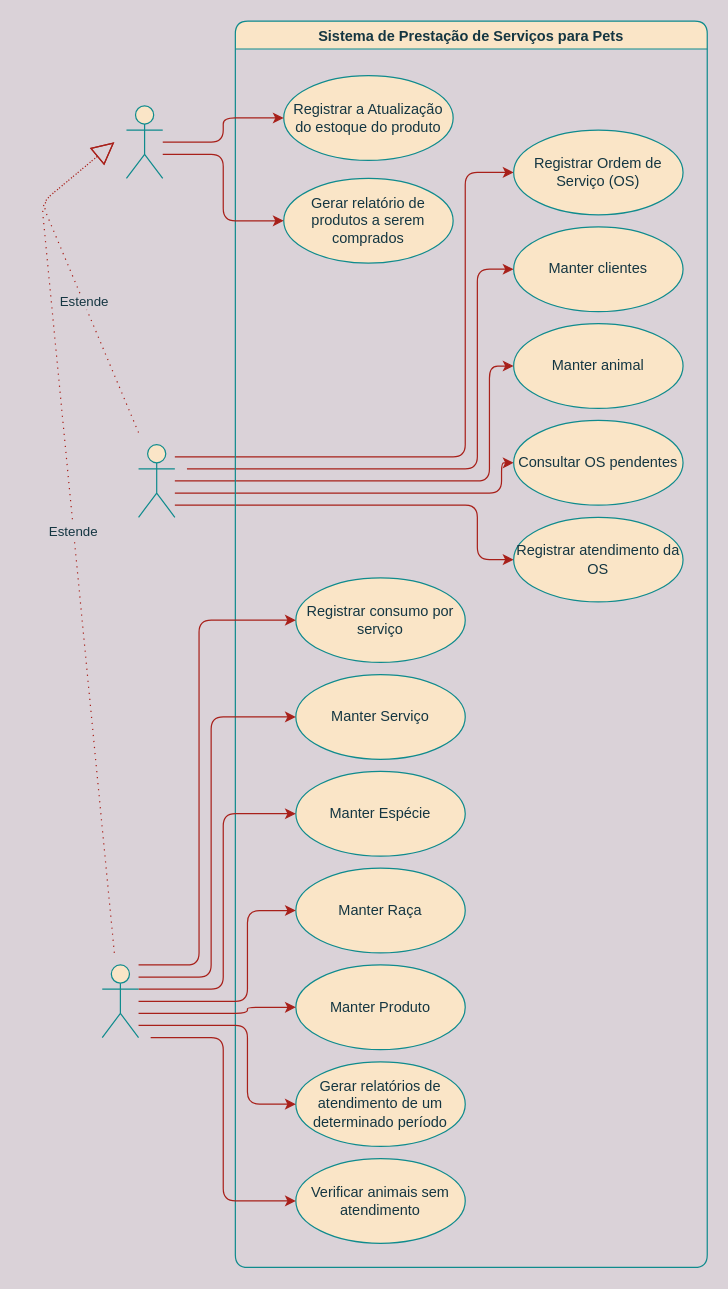
The diagram is 728 pixels wide and 1289 high, and some of its shapes have lost their labels. Each missing label, with the centre of its shape:
"Atendente" belongs at point 156,480.
"Atendente / Gerente" belongs at point 144,141.
"Gerente" belongs at point 120,1001.
